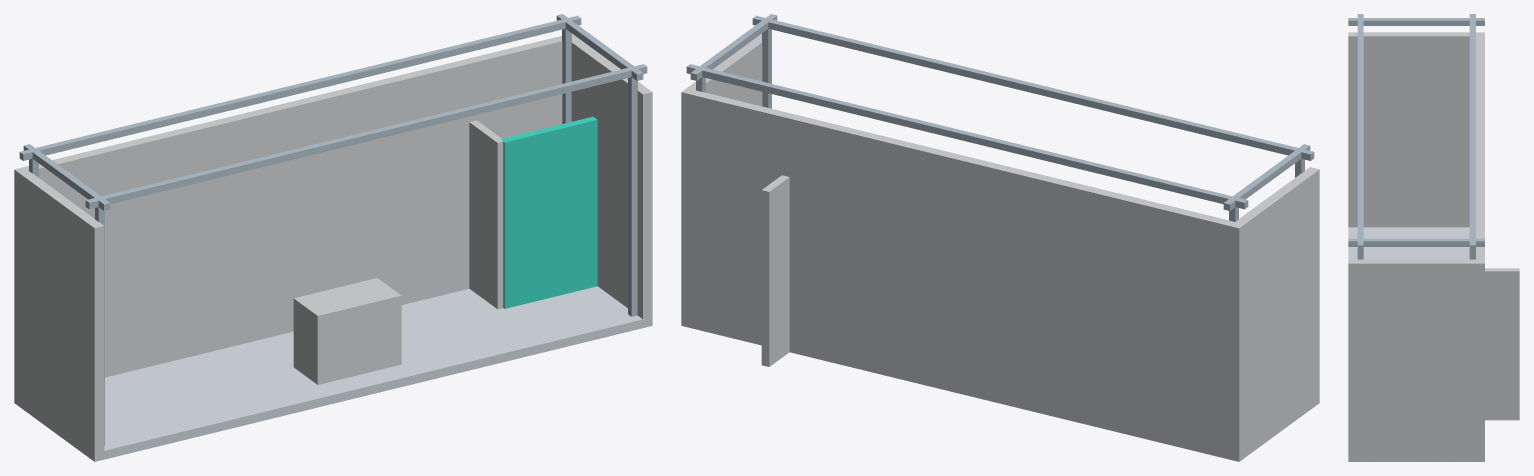
The picture shows the model from 3 angles, left to right: view 1: azimuth 30°, elevation 25°; view 2: azimuth 150°, elevation 25°; view 3: azimuth 270°, elevation 25°; orthographic projection. The views are drawn at different scales.
Parts seen in each view (by area): view 1: Exhibition Booth Concept; view 2: Exhibition Booth Concept; view 3: Exhibition Booth Concept.
Boxes of the visible parts, bbox=[...] form: Exhibition Booth Concept: bbox=[14, 14, 652, 461]; Exhibition Booth Concept: bbox=[681, 14, 1319, 461]; Exhibition Booth Concept: bbox=[1348, 14, 1519, 461].
Bounding box in the file's own units: 8 × 3.49 × 2.5.
